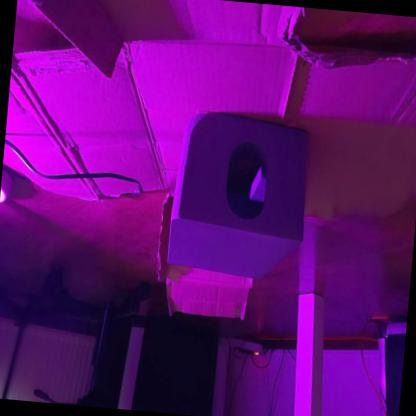CornerCasting: (163, 112, 308, 288)
